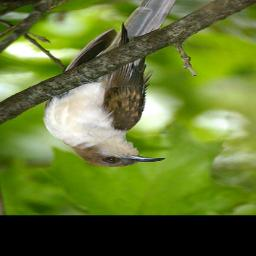Cuckoo: (40, 0, 191, 168)
